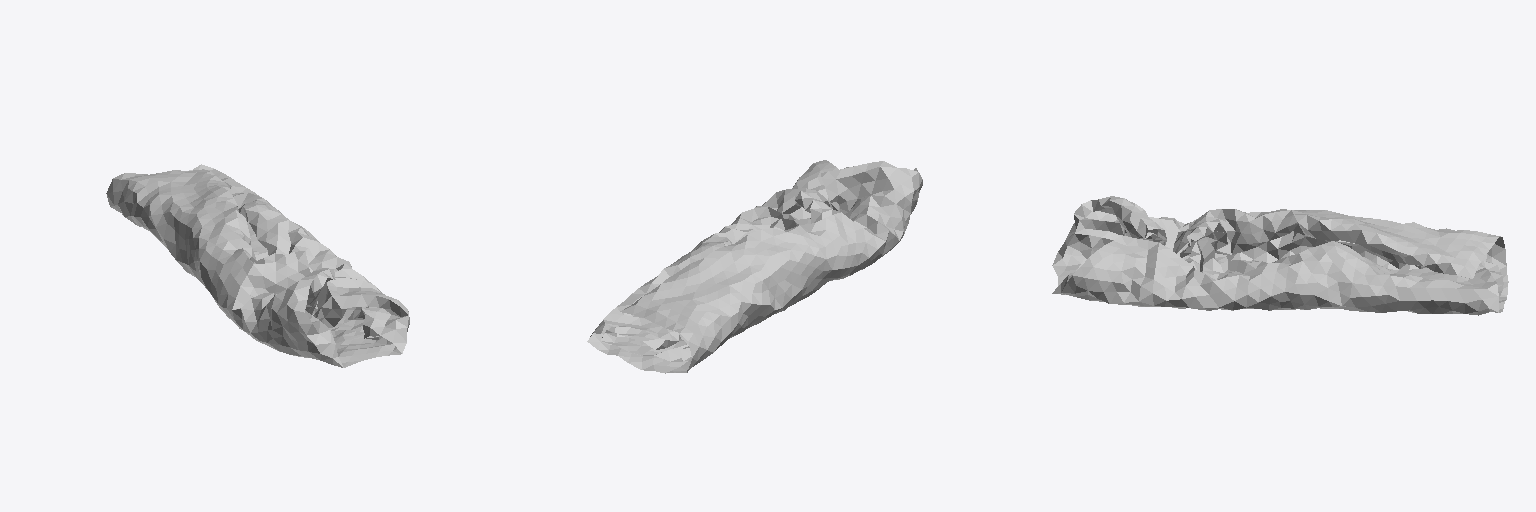
The model's file is tshirt1900-folding-biFolded.obj.
The picture shows the model from 3 angles: view 1: azimuth 30°, elevation 25°; view 2: azimuth 150°, elevation 25°; view 3: azimuth 270°, elevation 25°; orthographic projection.
Size of the model in its own units: 2.85 by 1.57 by 7.93.